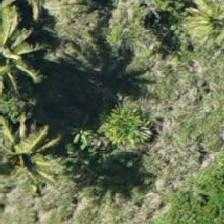coconut_tree: (0, 115, 74, 205), (164, 0, 223, 65)
